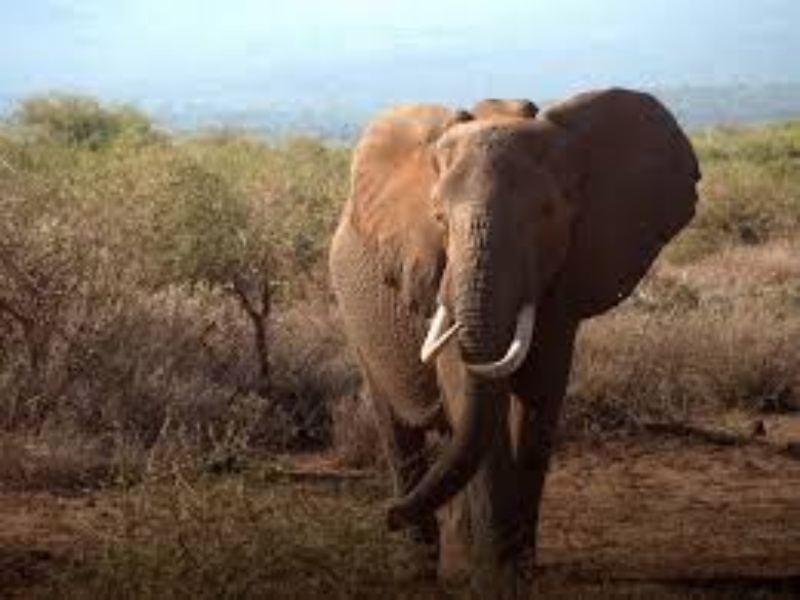elephant: (314, 69, 718, 582)
